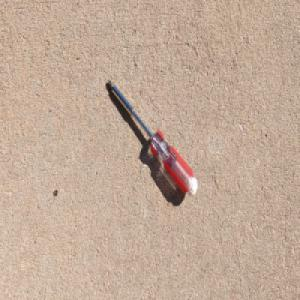Screwdriver: (106, 75, 199, 199)
